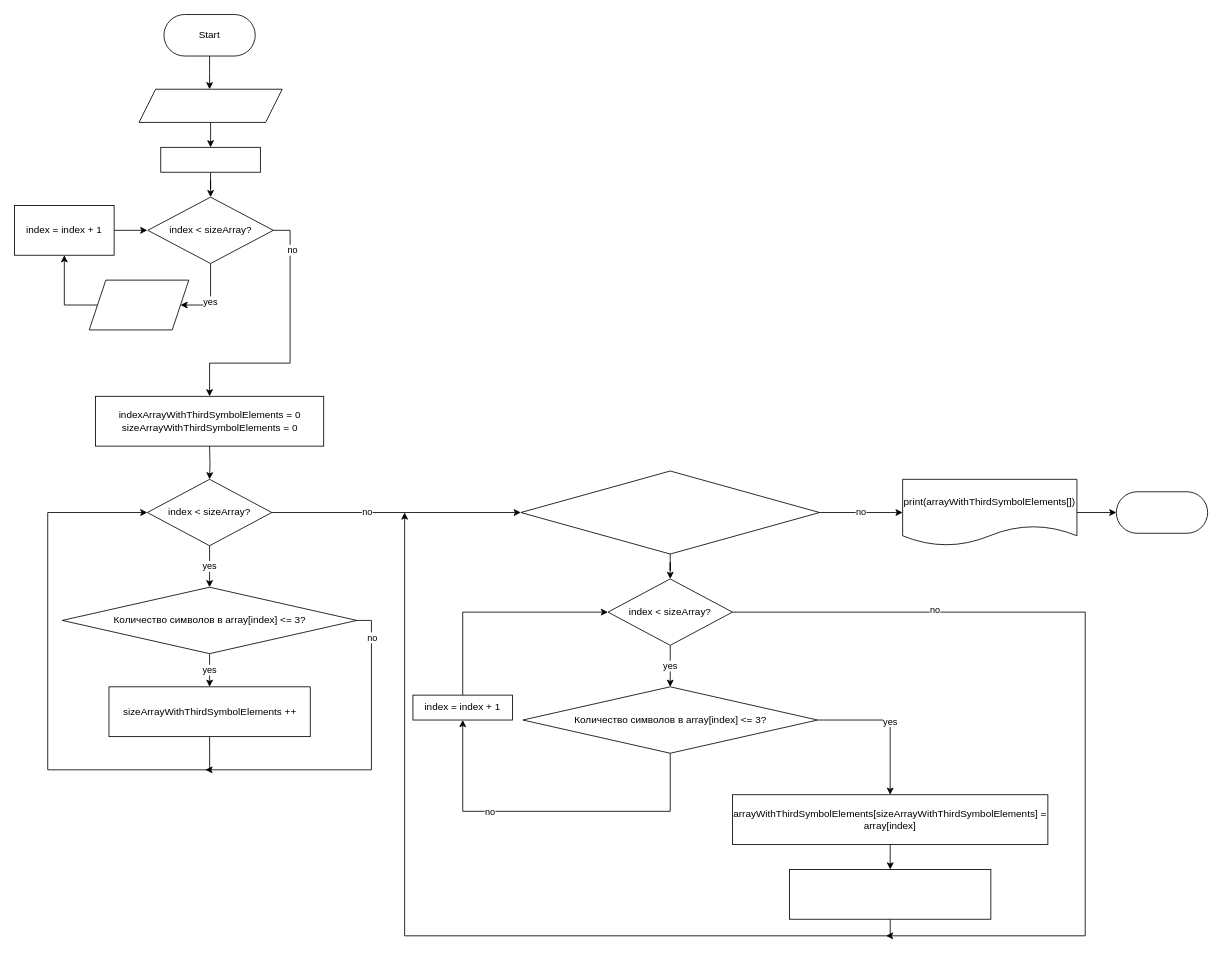
Some shapes in this 1223 by 957 pixel diagram are drawn without their labels. The centre of each missing label's shape, as x and y in pixels:
"array[index]" belongs at point (138, 304).
"End" belongs at point (1162, 512).
"index = 0" belongs at point (210, 159).
"indexArrayWithThirdSymbolElements ++ index ++" belongs at point (890, 894).
"indexArrayWithThirdSymbolElements < sizeArrayWithThirdSymbolElements" belongs at point (670, 512).
"sizeArray" belongs at point (210, 105).
